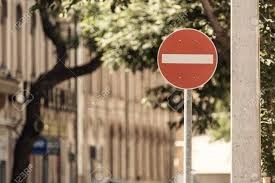No entry: (158, 29, 217, 89)
